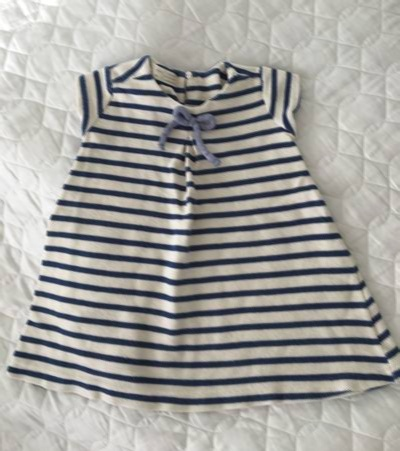Dress: (10, 37, 400, 431)
